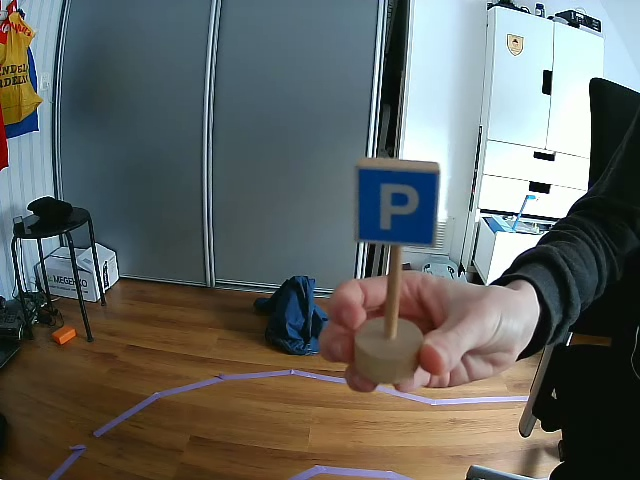parkeerbord: (354, 166, 439, 246)
